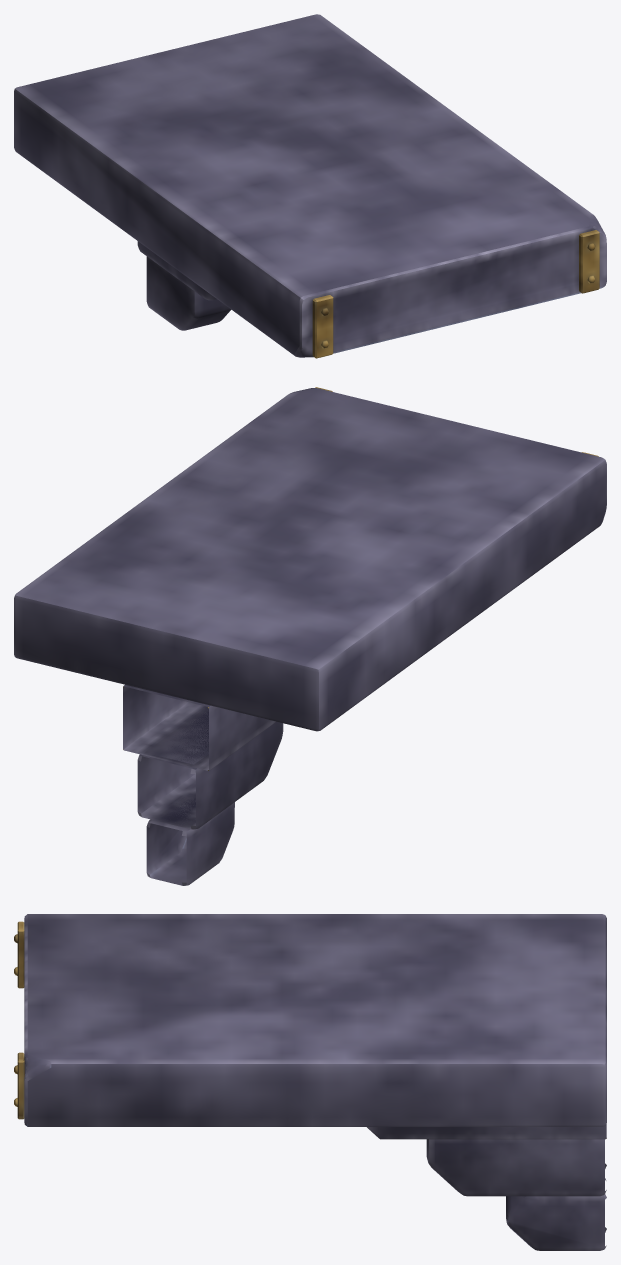
File: Promenade_Platform.fbx
3 renders of one model, top to bottom at view 1: azimuth 30°, elevation 25°; view 2: azimuth 150°, elevation 25°; view 3: azimuth 270°, elevation 25°, orthographic.
Parts seen in each view (by area): view 1: Promenade_Platform; view 2: Promenade_Platform; view 3: Promenade_Platform.
Boxes of the visible parts, x1,y1,x2,y2 form: Promenade_Platform: [14, 14, 606, 358]; Promenade_Platform: [14, 387, 606, 885]; Promenade_Platform: [14, 914, 606, 1250].
Size of the model in its own units: 0.992 by 0.78 by 1.64.
